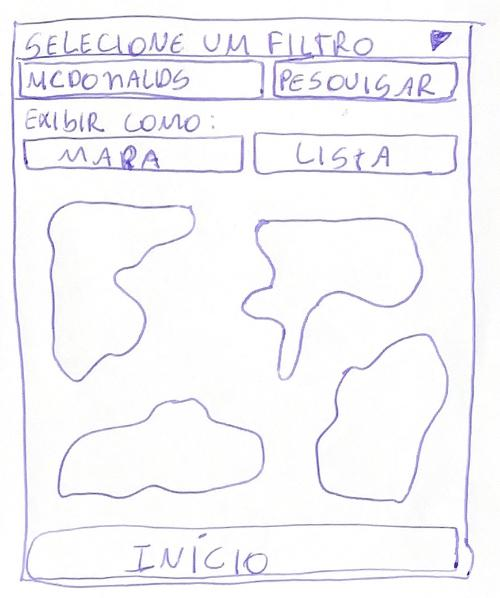Button: (27, 525, 460, 588), (19, 60, 265, 100), (253, 131, 458, 175), (23, 136, 245, 174), (273, 61, 459, 100)
Label: (21, 28, 374, 61), (25, 108, 216, 133)
Map: (15, 199, 474, 523)
Screen: (10, 17, 474, 590)
